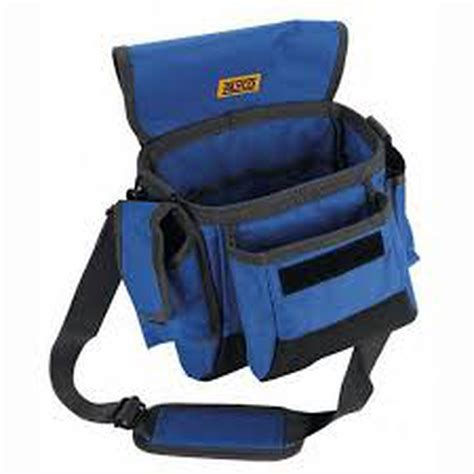nylon: (49, 19, 421, 462)
